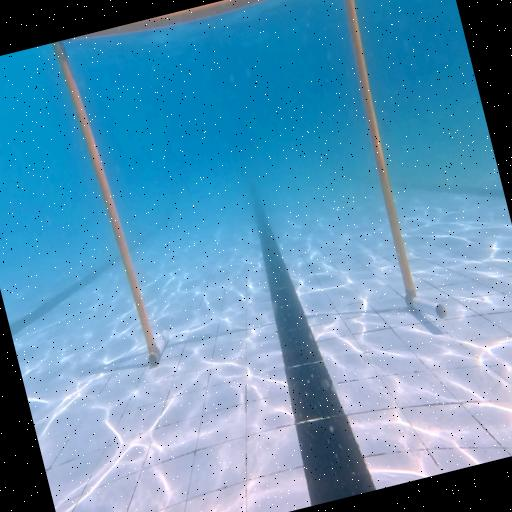gate: (52, 0, 447, 395)
